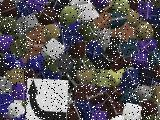Right: (26, 78, 68, 120)
